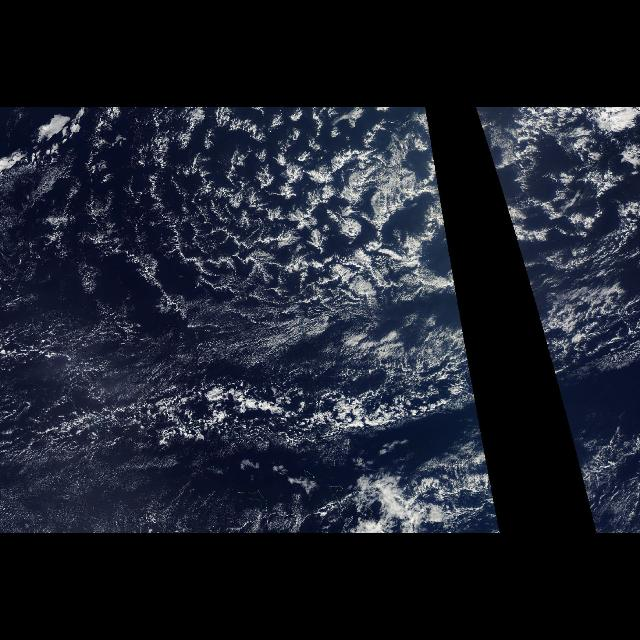Gravel: (36, 126, 444, 350)
